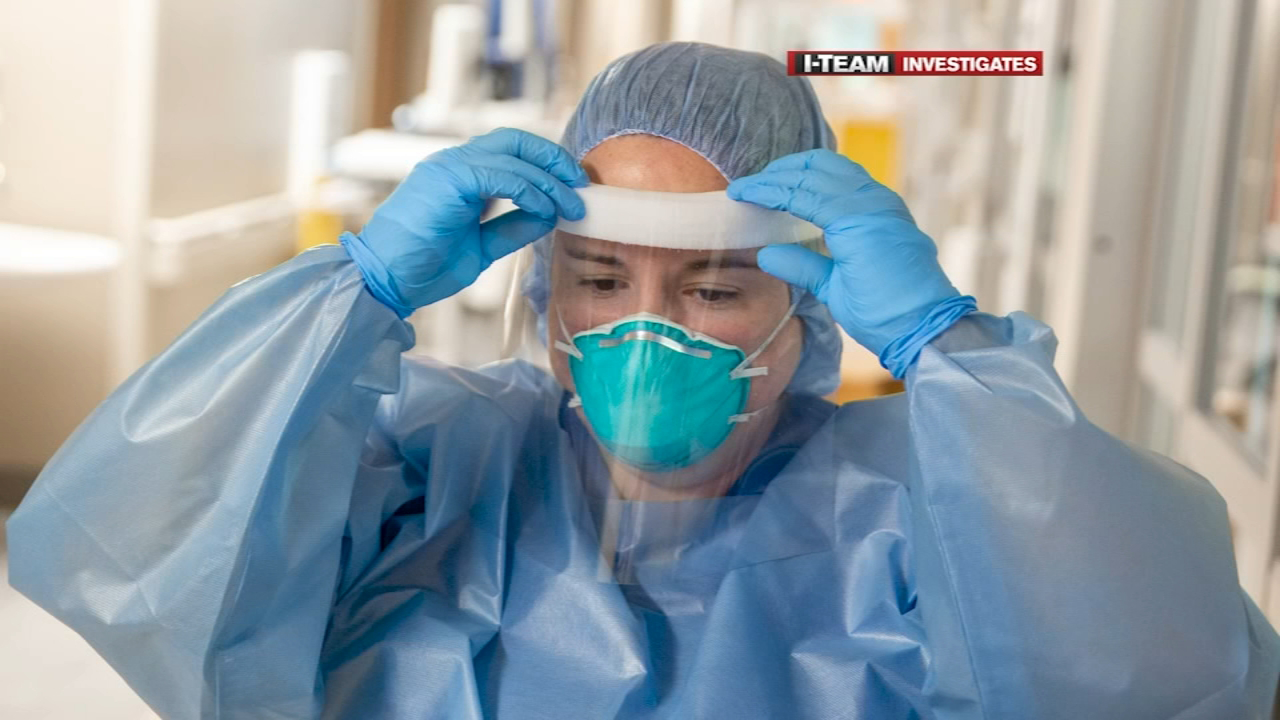Gloves: (730, 145, 985, 383), (345, 117, 578, 318)
with_mask: (555, 199, 760, 466)
